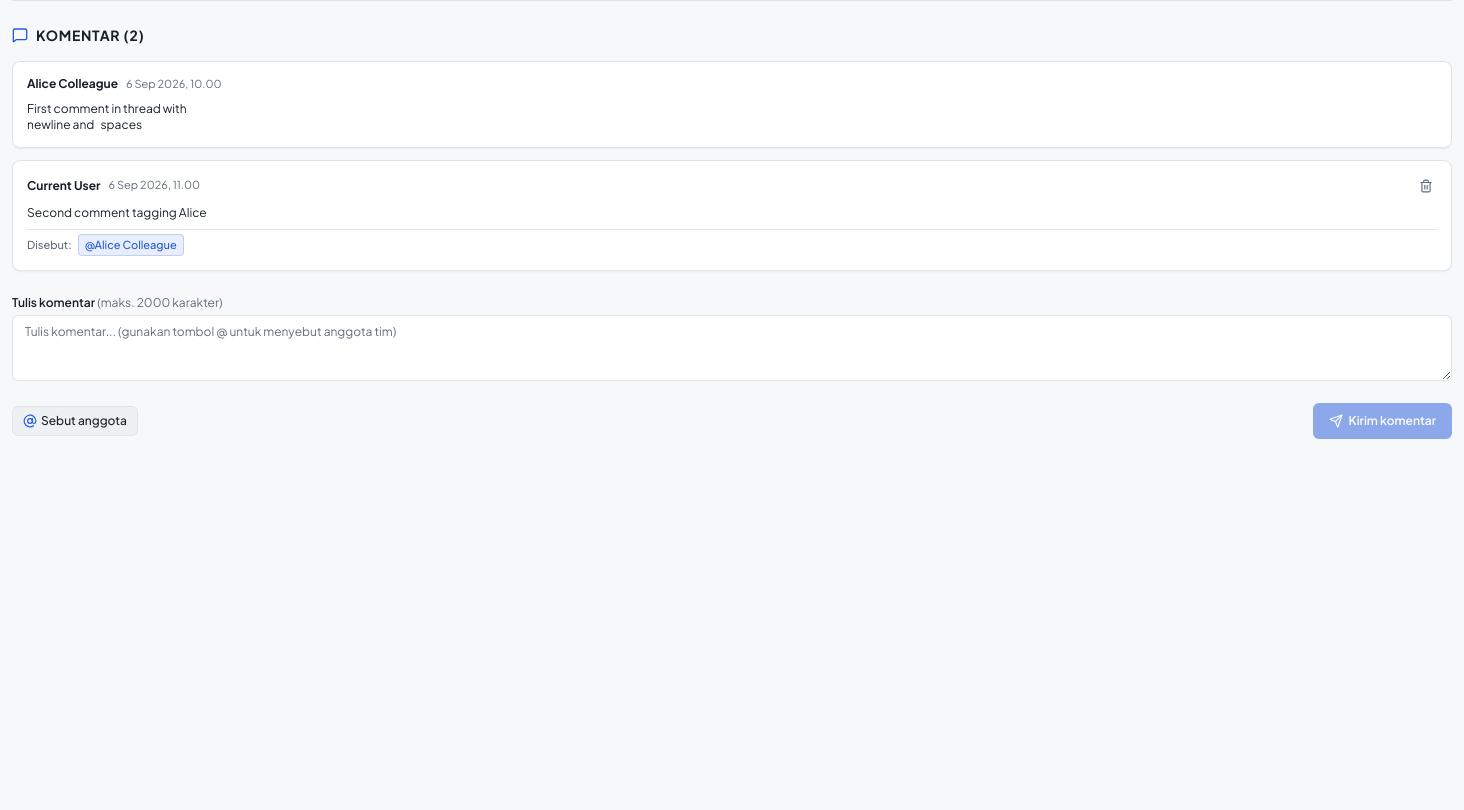
Test: Phase 10 Task 9 — Task Comments & Structured Mentions UX › submits trimmed comment with structured mentions and deduplicates mention payload
The image size is (1464, 810).
Expected: the text "First comment in thread with newline and spaces" is shown, [27,100,187,132]
// Enter comment content
Replace the text in the text box labelled "Tulis komentar (maks. 2000 karakter)" with "  Here is the progress report.  ": (732, 348) [12,315,1452,381]
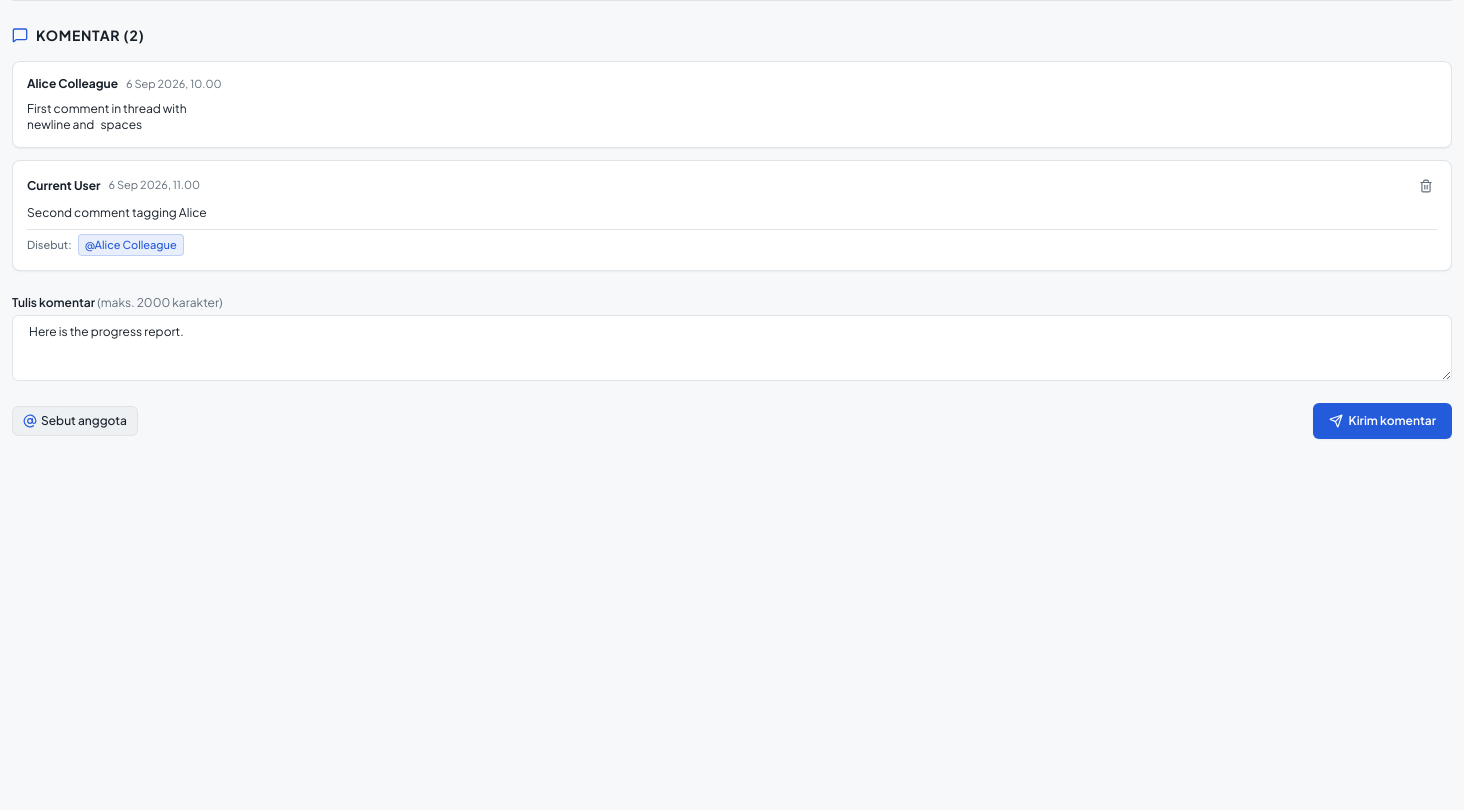
// Open mention picker
Click the button with aria-label "Sebut anggota tim": click(75, 421) [12,406,138,436]
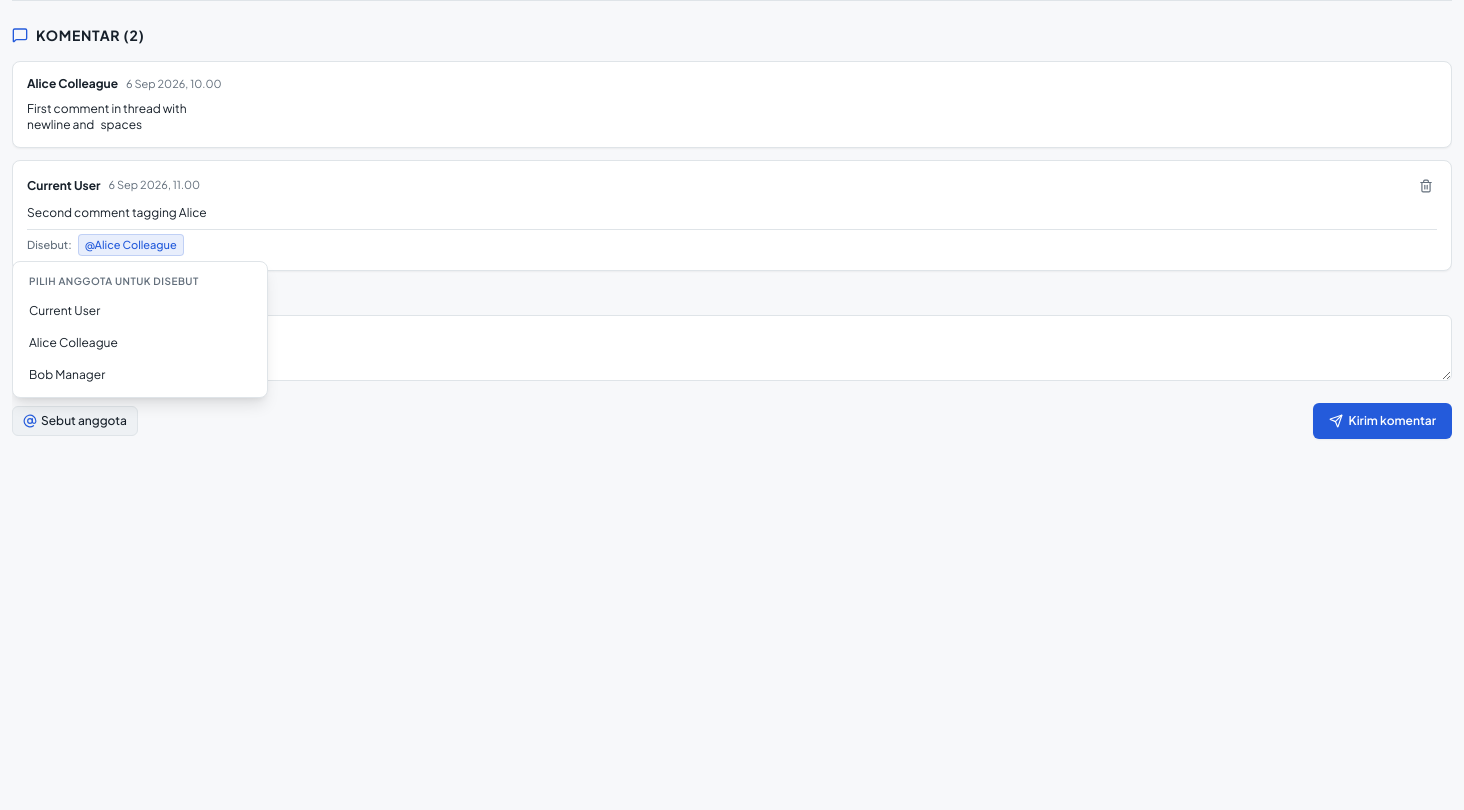
// Select Alice Colleague
Click the option "Alice Colleague": click(140, 343) [21,329,259,357]
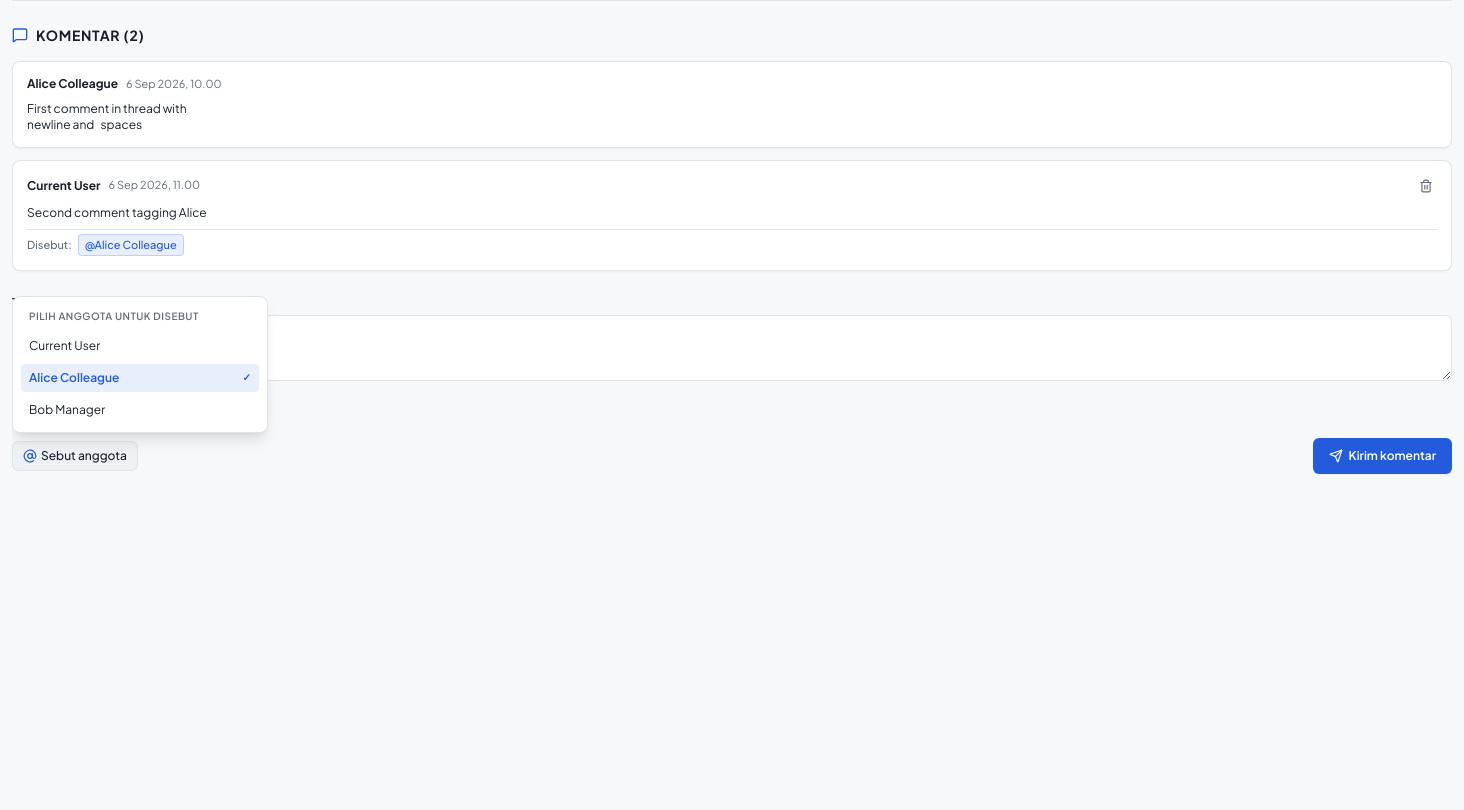
// Select Bob Manager
Click the option "Bob Manager": click(140, 410) [21,396,259,424]
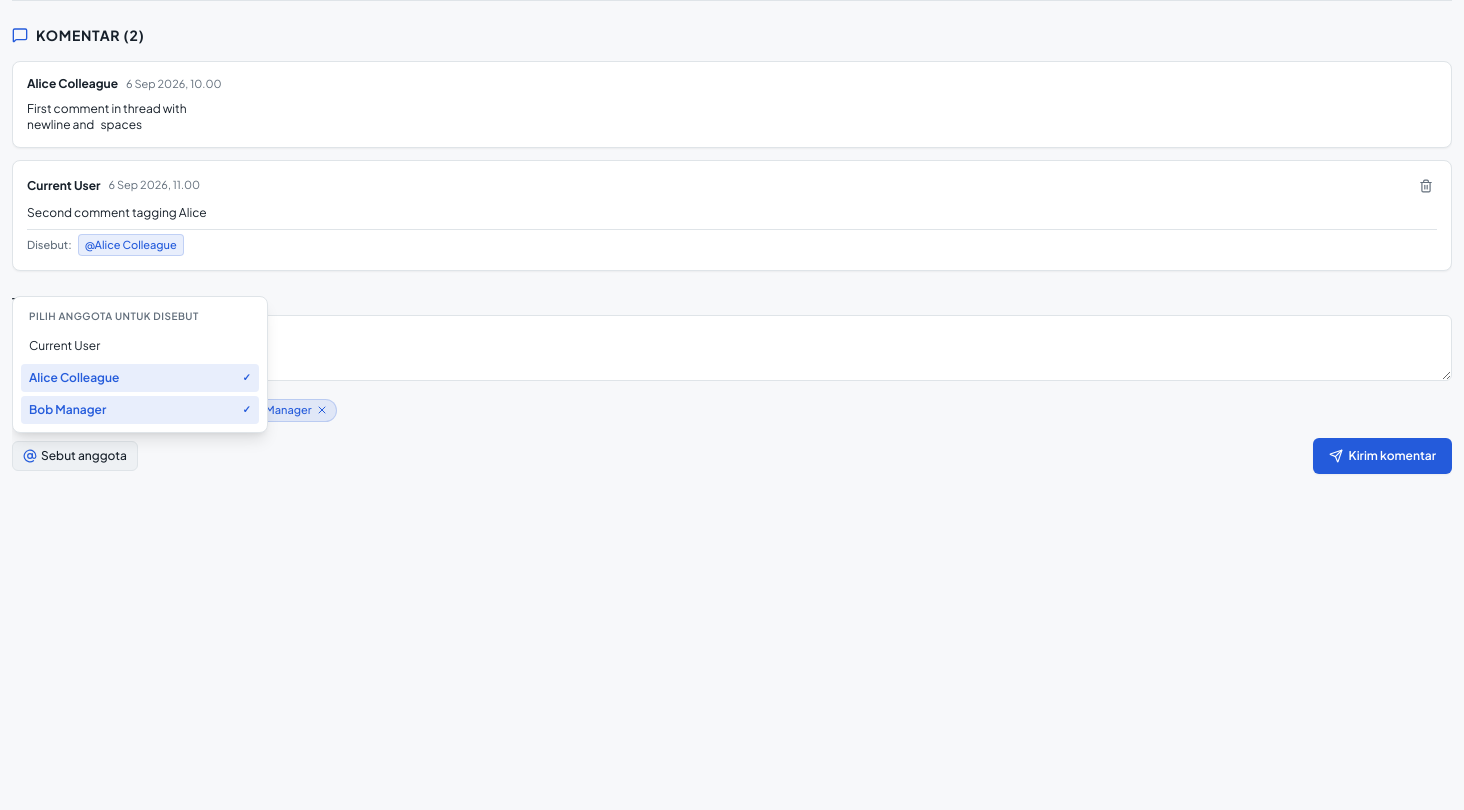
Result: the button "Kirim komentar" is enabled
Click the button "Kirim komentar": click(1382, 456) [1313,438,1452,474]
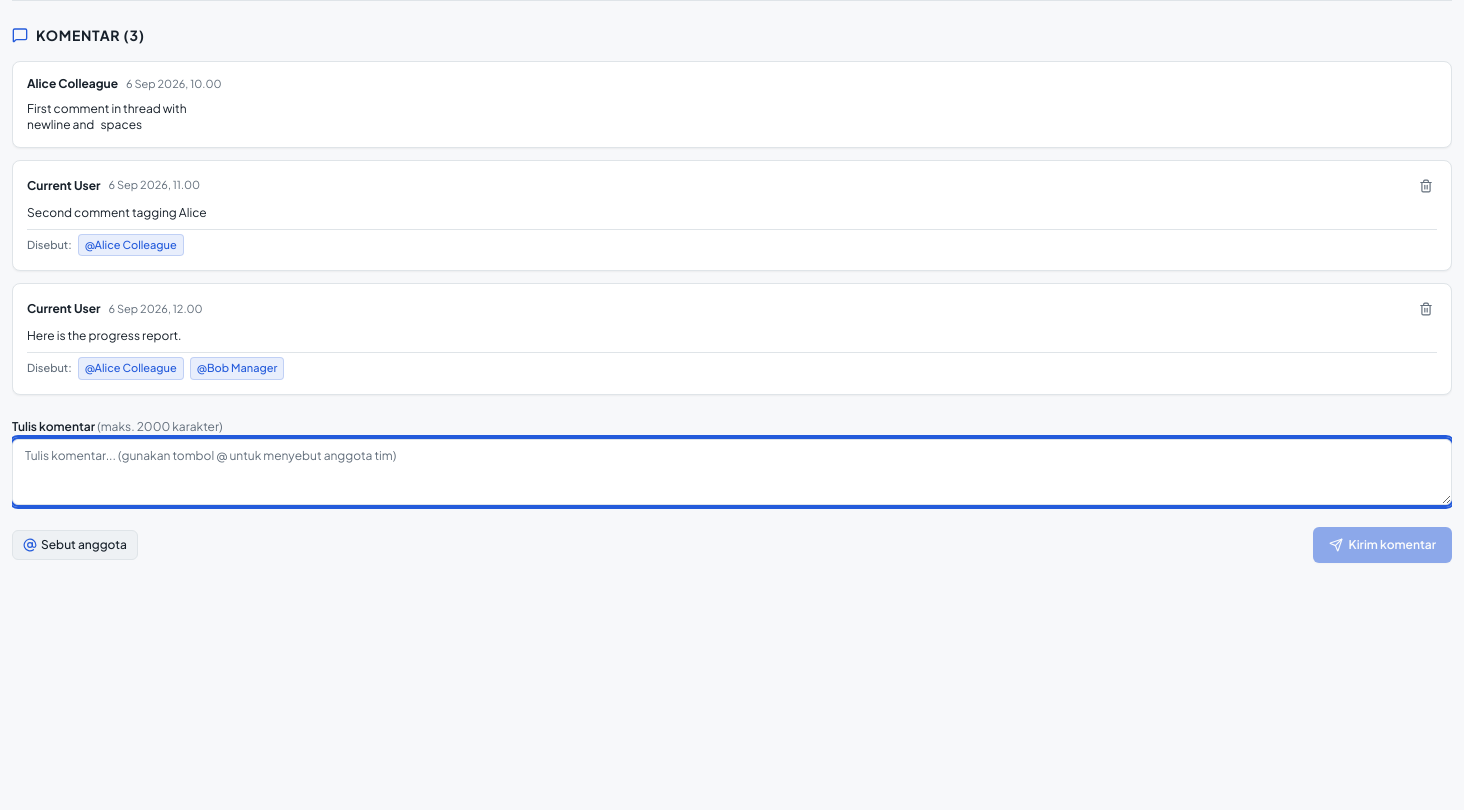
Result: the text "@Bob Manager" is shown at [190,357,284,380]
Result: the text "Here is the progress report." is shown at [27,328,182,343]
